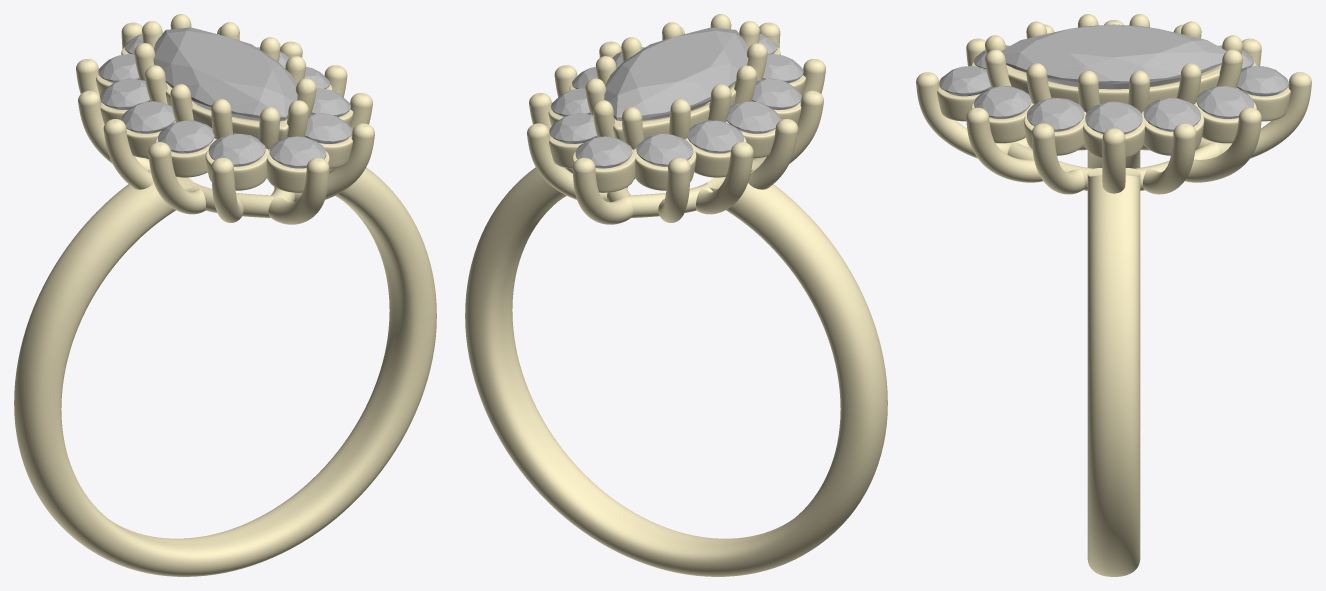
Rendered from bbrg043_goldring_wedding_engagement_luxury.glb.
3 views of the same model, side by side, from view 1: azimuth 30°, elevation 25°; view 2: azimuth 150°, elevation 25°; view 3: azimuth 270°, elevation 25° (orthographic).
Parts seen in each view (by area): view 1: Metal 01_18, Metal 01_17, Gem 01_1, Setting_57, Setting_64, Setting_59, Setting_65, Setting_56, Gem 01_30, Gem 01_28, Gem 01_40, Setting_62 (+20 smaller); view 2: Metal 01_18, Metal 01_17, Gem 01_1, Setting_58, Setting_62, Setting_59, Setting_61, Setting_60, Gem 01_34, Gem 01_32, Gem 01_40, Setting_64 (+20 smaller); view 3: Metal 01_17, Gem 01_1, Setting_61, Setting_65, Setting_3, Setting_57, Setting_58, Setting_66, Setting_63, Setting_55, Metal 01_16, Gem 01_24 (+19 smaller).
Boxes of the visible parts, box(x1,y1,x2,y2) form: Metal 01_18: box(14, 170, 238, 576); Metal 01_17: box(216, 167, 436, 570); Gem 01_1: box(153, 27, 297, 120); Setting_57: box(268, 157, 329, 224); Setting_64: box(148, 142, 205, 214); Setting_59: box(103, 119, 153, 189); Setting_65: box(294, 123, 374, 201); Setting_56: box(211, 157, 243, 222); Gem 01_30: box(158, 120, 214, 153); Gem 01_28: box(208, 133, 265, 166); Gem 01_40: box(121, 101, 175, 133); Setting_62: box(78, 90, 150, 170); Metal 01_18: box(663, 170, 887, 576); Metal 01_17: box(465, 167, 685, 570); Gem 01_1: box(604, 27, 748, 120); Setting_58: box(572, 157, 633, 224); Setting_62: box(696, 142, 753, 214); Setting_59: box(748, 119, 798, 189); Setting_61: box(527, 123, 607, 201); Setting_60: box(658, 157, 690, 222); Gem 01_34: box(687, 120, 743, 153); Gem 01_32: box(636, 133, 693, 166); Gem 01_40: box(726, 101, 780, 133); Setting_64: box(751, 90, 823, 170); Metal 01_17: box(1087, 168, 1140, 576); Gem 01_1: box(1001, 24, 1226, 89); Setting_61: box(1185, 107, 1261, 182); Setting_65: box(966, 107, 1042, 182); Setting_3: box(1006, 65, 1221, 104); Setting_57: box(916, 72, 1011, 158); Setting_58: box(1216, 72, 1311, 158); Setting_66: box(1143, 123, 1196, 194); Setting_63: box(1031, 123, 1084, 194); Setting_55: box(1102, 128, 1125, 193); Metal 01_16: box(1007, 137, 1220, 190); Gem 01_24: box(1085, 101, 1142, 134).
Size of the model in its own units: 20.94 by 24.62 by 17.23.
